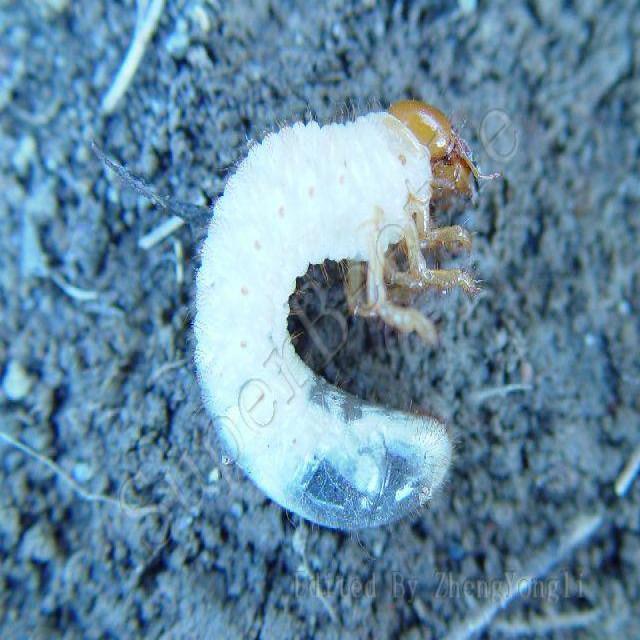Grub-Adult-: (187, 89, 485, 542)
